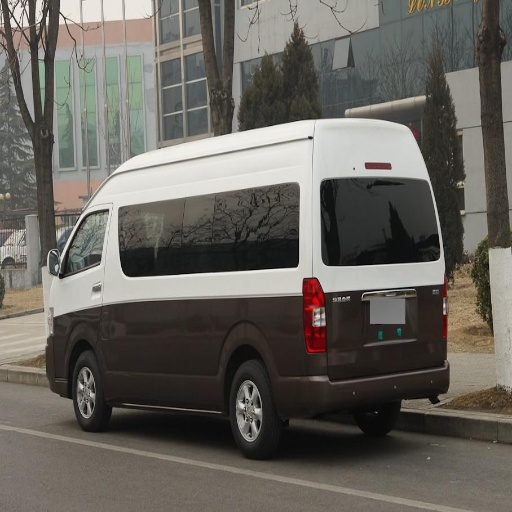back_bumper: (314, 341, 449, 405)
back_glass: (324, 176, 440, 264), (137, 196, 238, 269), (217, 188, 276, 225)
trunk: (144, 263, 438, 409)
